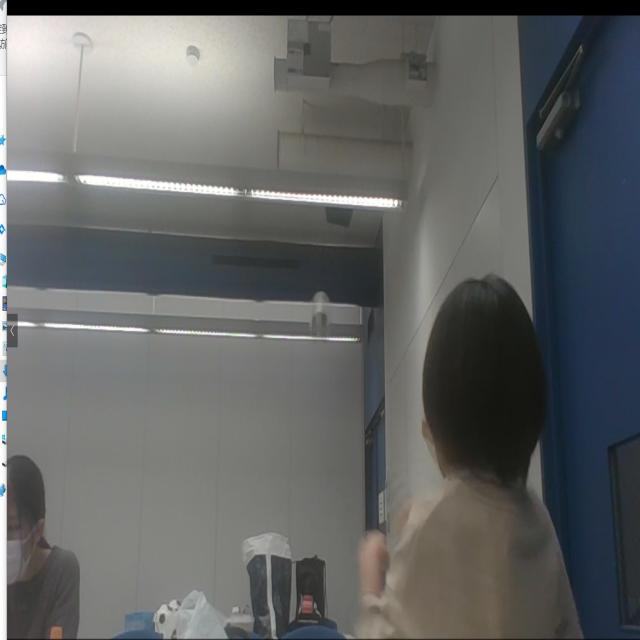ball: (313, 308, 328, 338)
